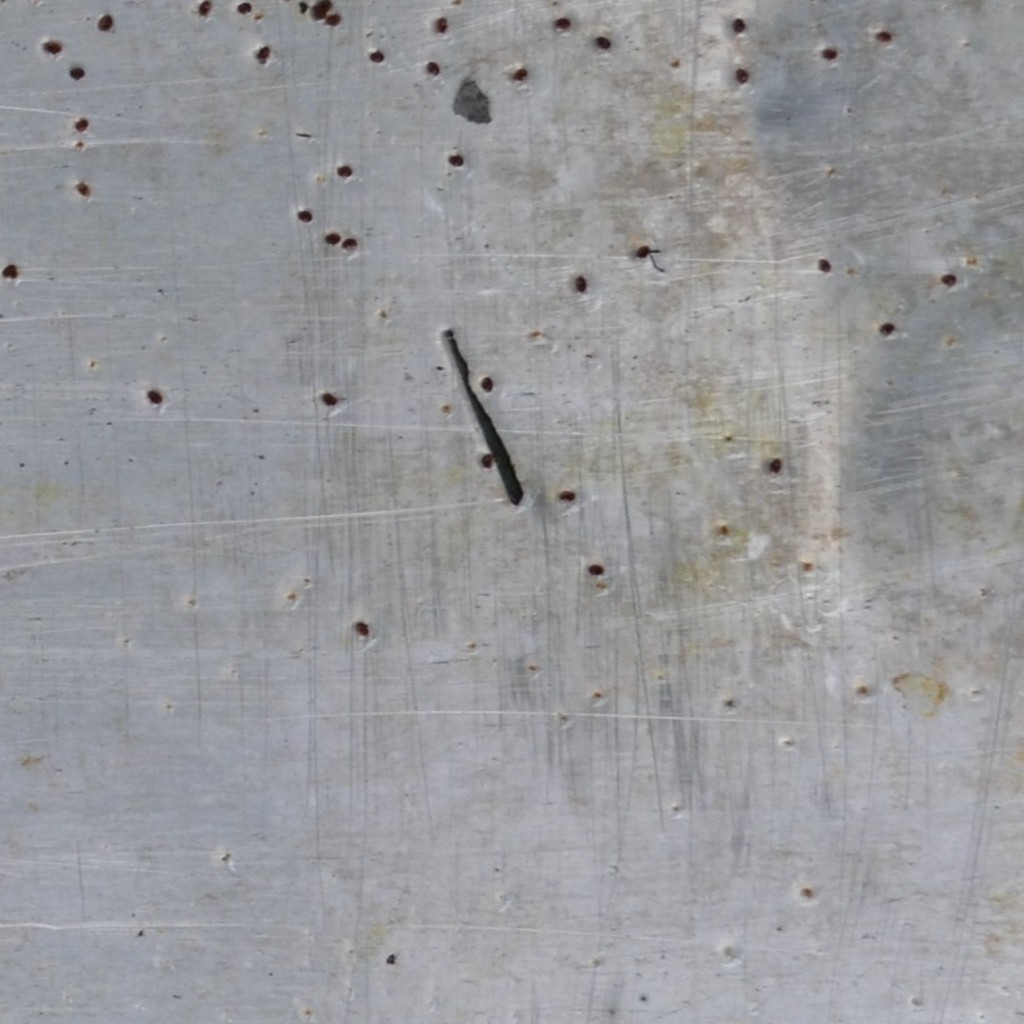varroa: (319, 385, 341, 409), (95, 13, 116, 36), (294, 206, 317, 227), (40, 38, 65, 57), (815, 254, 835, 277), (143, 387, 165, 407), (733, 65, 752, 87), (510, 63, 529, 85), (446, 150, 465, 172), (876, 318, 896, 338), (632, 242, 652, 262), (594, 32, 613, 53), (0, 262, 21, 281), (553, 14, 573, 33), (557, 485, 577, 504), (66, 64, 87, 82), (340, 234, 358, 255), (573, 272, 588, 296), (586, 560, 606, 578), (766, 456, 783, 477), (729, 15, 747, 34), (335, 163, 355, 180), (479, 373, 494, 395), (368, 48, 386, 66), (323, 229, 341, 247), (939, 272, 959, 288), (196, 0, 216, 16), (433, 14, 448, 35), (354, 619, 372, 636), (874, 28, 893, 44), (425, 58, 441, 77), (310, 4, 326, 23), (324, 13, 342, 29), (235, 1, 253, 17), (73, 117, 91, 133), (255, 44, 270, 62), (480, 451, 494, 469), (819, 47, 837, 60), (315, 0, 332, 9)
